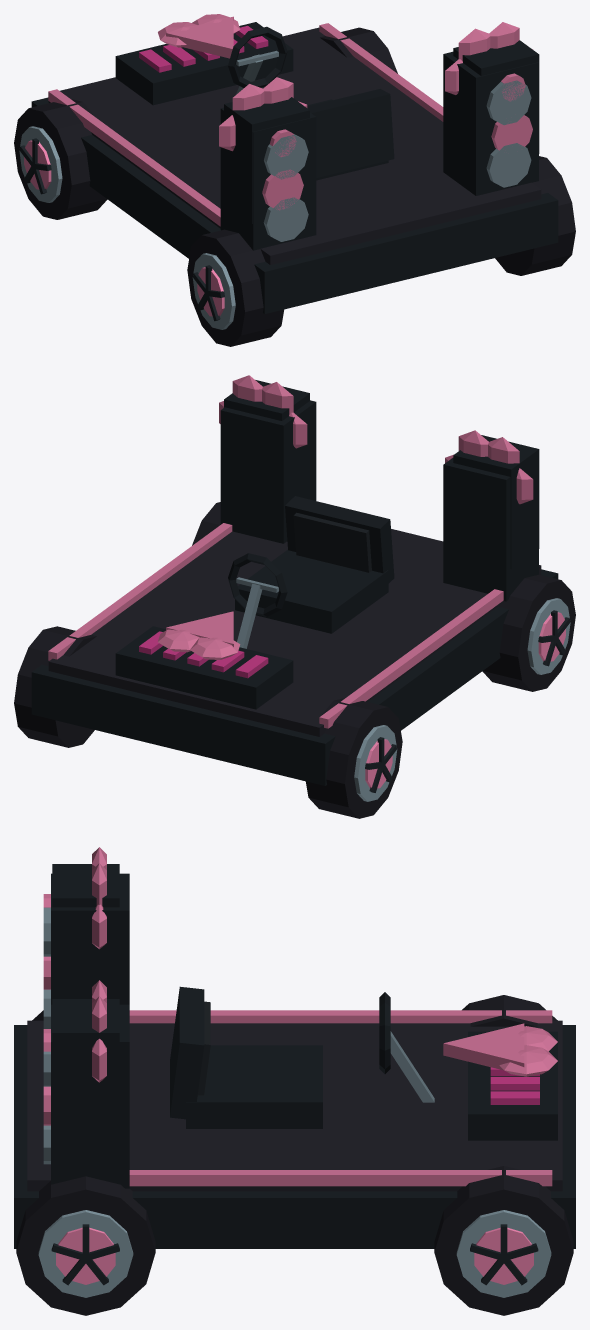
The model's file is kart.glb.
The picture shows the model from 3 angles, top to bottom: view 1: azimuth 30°, elevation 25°; view 2: azimuth 150°, elevation 25°; view 3: azimuth 270°, elevation 25°; orthographic projection. The views are drawn at different scales.
Visible parts, largest first — view 1: identity-stage-stage-platform-and-pa-towers, identity-stage-motif-speakers, identity-stage-driver-cockpit, wheel-rear-left, wheel-front-left, identity-stage-motif-flowers, wheel-rear-right, identity-stage-motif-heart, wheel-front-right; view 2: identity-stage-stage-platform-and-pa-towers, identity-stage-driver-cockpit, wheel-front-left, wheel-rear-left, identity-stage-motif-speakers, wheel-front-right, identity-stage-motif-flowers, identity-stage-motif-heart; view 3: identity-stage-stage-platform-and-pa-towers, identity-stage-driver-cockpit, wheel-front-right, wheel-rear-right, identity-stage-motif-speakers, identity-stage-motif-heart, identity-stage-motif-flowers, wheel-front-left.
Part boxes in pixels (x1=…): identity-stage-stage-platform-and-pa-towers: x1=31, y1=22, x2=558, y2=314; identity-stage-motif-speakers: x1=224, y1=40, x2=539, y2=223; identity-stage-driver-cockpit: x1=228, y1=26, x2=394, y2=180; wheel-rear-left: x1=187, y1=229, x2=283, y2=346; wheel-front-left: x1=14, y1=99, x2=107, y2=219; identity-stage-motif-flowers: x1=219, y1=22, x2=533, y2=151; wheel-rear-right: x1=495, y1=156, x2=575, y2=275; identity-stage-motif-heart: x1=158, y1=14, x2=240, y2=58; wheel-front-right: x1=320, y1=27, x2=397, y2=73; identity-stage-stage-platform-and-pa-towers: x1=31, y1=400, x2=558, y2=785; identity-stage-driver-cockpit: x1=228, y1=496, x2=394, y2=648; wheel-front-left: x1=305, y1=697, x2=402, y2=818; wheel-rear-left: x1=482, y1=574, x2=575, y2=691; identity-stage-motif-speakers: x1=224, y1=380, x2=539, y2=568; wheel-front-right: x1=14, y1=626, x2=96, y2=747; identity-stage-motif-flowers: x1=219, y1=375, x2=533, y2=504; identity-stage-motif-heart: x1=158, y1=611, x2=240, y2=659; identity-stage-stage-platform-and-pa-towers: x1=14, y1=873, x2=575, y2=1248; identity-stage-driver-cockpit: x1=170, y1=986, x2=434, y2=1128; wheel-front-right: x1=434, y1=1166, x2=573, y2=1315; wheel-rear-right: x1=16, y1=1176, x2=155, y2=1315; identity-stage-motif-speakers: x1=43, y1=864, x2=119, y2=1153; identity-stage-motif-heart: x1=443, y1=1023, x2=557, y2=1076; identity-stage-motif-flowers: x1=92, y1=847, x2=106, y2=1082; wheel-front-left: x1=462, y1=995, x2=557, y2=1026.
Bounding box in the file's own units: 2.16 × 1.46 × 2.5.
